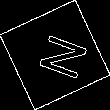N_W: (24, 27, 86, 83)
